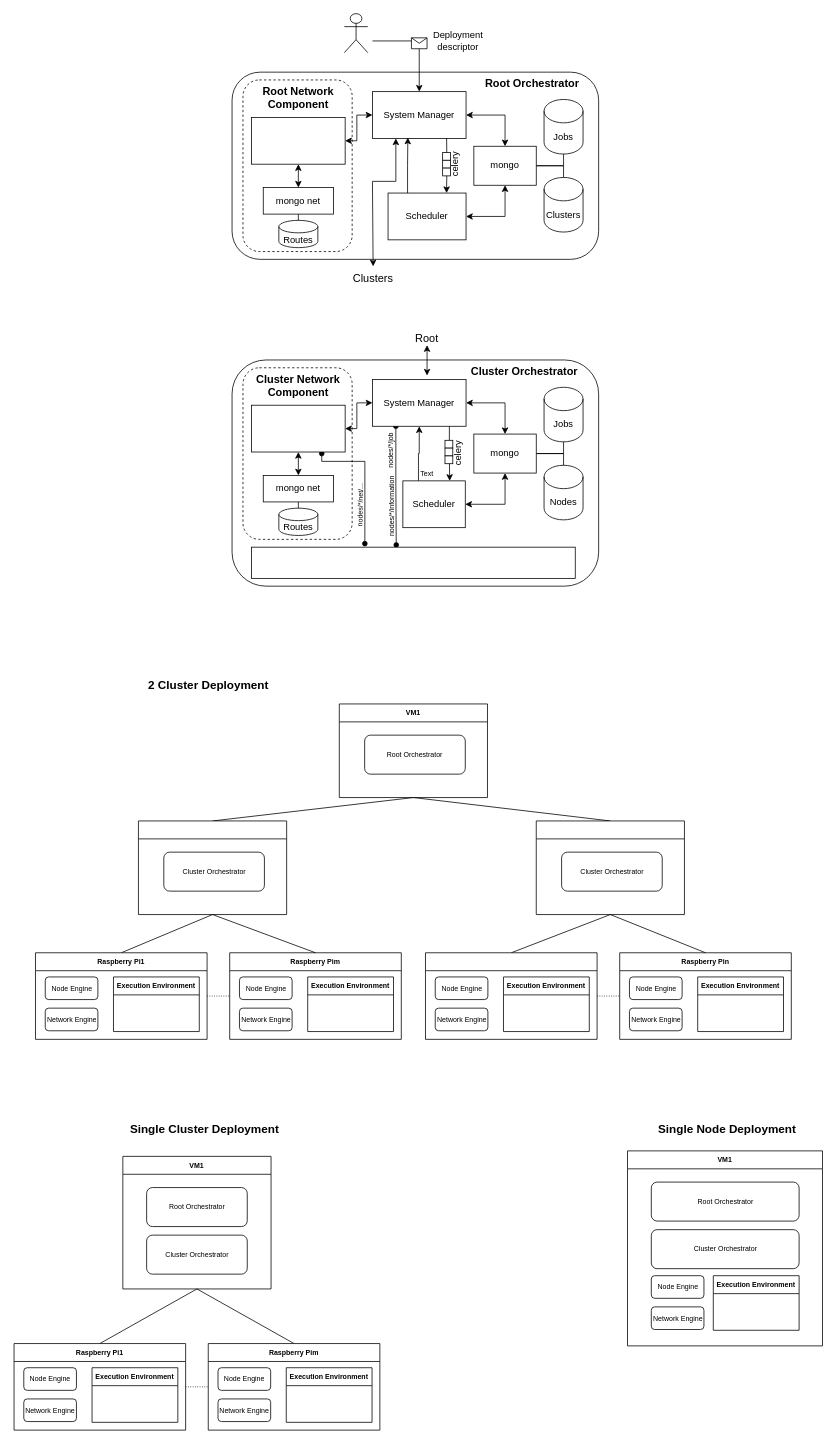
Image size: 838x1444. Some labels were removed from this diagram. Each missing label, with the box of its shape:
Cluster Service Manager: (251, 404, 345, 452)
Developer: (344, 13, 368, 53)
Mosquitto MQTT Broker: (251, 546, 575, 578)
Raspberry Pi3: (425, 952, 597, 1039)
Root Service Manager: (251, 117, 345, 164)
VM2: (138, 820, 287, 915)
VM3: (535, 820, 684, 915)
